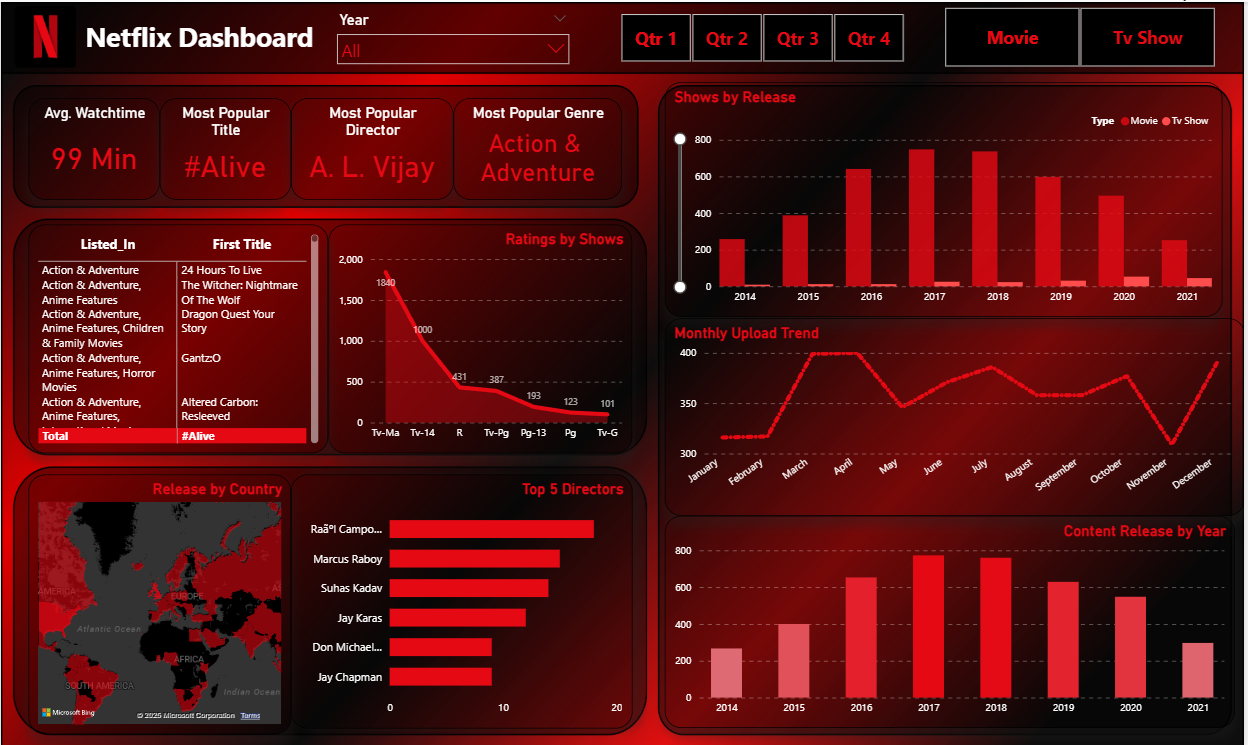

Layout of this report page (visuals, bound fields, positions):
{"tool":"powerbi","page":{"name":"Page 1","canvas":[1500,900],"ordinal":0},"visuals":[{"type":"clusteredColumnChart","title":"Shows by Release","fields":{"Category":["RQR.Release_Year"],"Y":["RQR.Show_Id"],"Series":["RQR.Type"]},"box":[800.8,96.5,672.6,283.5],"z":0},{"type":"filledMap","title":"Release by Country","fields":{"Category":["RQR.Country"]},"box":[33.2,570,316.7,313.7],"z":1000},{"type":"clusteredBarChart","title":"Top 5 Directors","fields":{"Category":["RQR.Director"],"Y":["RQR.Show_Id"]},"box":[349.9,570,411.7,306.1],"z":2000},{"type":"lineChart","title":"Monthly Upload Trend","fields":{"Category":["RQR.Date_Added.Variation.Date Hierarchy.Month","RQR.Date_Added.Variation.Date Hierarchy.Day"],"Y":["RQR.Show_Id"]},"box":[800.8,381.5,699.7,238.3],"z":3000},{"type":"columnChart","title":"Content Release by Year","fields":{"Category":["RQR.Release_Year"],"Y":["RQR.Show_Id"]},"box":[800.8,619.8,687.7,256.4],"z":4000},{"type":"areaChart","title":"Ratings by Shows","fields":{"Category":["RQR.Rating"],"Y":["RQR.Show_Id"]},"box":[395.1,268.4,366.5,276],"z":5000},{"type":"card","title":"Avg. Watchtime","fields":{"Values":["RQR.Duration"]},"box":[33.2,116.1,158.3,122.2],"z":6000},{"type":"pivotTable","fields":{"Values":["RQR.Title"],"Rows":["RQR.Listed_In"]},"box":[33.2,268.4,361.9,276],"z":7000},{"type":"card","title":"Most Popular Title","fields":{"Values":["RQR.Title"]},"box":[191.5,116.1,158.3,122.2],"z":8000},{"type":"card","title":"Most Popular Director","fields":{"Values":["RQR.Director"]},"box":[349.9,116.1,196,122.2],"z":9000},{"type":"card","title":"Most Popular Genre","fields":{"Values":["RQR.Listed_In"]},"box":[545.9,116.1,203.6,122.2],"z":10000},{"type":"image","box":[10.6,0,86,84.5],"z":11000},{"type":"textbox","box":[96.5,15.1,298.6,57.3],"z":12000},{"type":"slicer","fields":{"Values":["RQR.Date_Added.Variation.Date Hierarchy.Quarter"]},"box":[722.4,7.5,390.6,70.9],"z":13000},{"type":"slicer","fields":{"Values":["RQR.Type"]},"box":[1112.9,0,375.5,84.5],"z":14000},{"type":"slicer","fields":{"Values":["RQR.Release_Year"]},"box":[395.1,6,300.1,70.9],"z":14001}]}

Visuals, with their boxes in screenshot pixels (x1, y1, x2, y2), scaled from the page's 1500x900 canvas onto the 1248x745 screenshot:
"Shows by Release" clusteredColumnChart: {"left": 666, "top": 80, "right": 1226, "bottom": 315}
"Release by Country" filledMap: {"left": 28, "top": 472, "right": 291, "bottom": 732}
"Top 5 Directors" clusteredBarChart: {"left": 291, "top": 472, "right": 634, "bottom": 725}
"Monthly Upload Trend" lineChart: {"left": 666, "top": 316, "right": 1247, "bottom": 513}
"Content Release by Year" columnChart: {"left": 666, "top": 513, "right": 1238, "bottom": 725}
"Ratings by Shows" areaChart: {"left": 329, "top": 222, "right": 634, "bottom": 451}
"Avg. Watchtime" card: {"left": 28, "top": 96, "right": 159, "bottom": 197}
pivotTable - RQR.Title x RQR.Listed_In: {"left": 28, "top": 222, "right": 329, "bottom": 451}
"Most Popular Title" card: {"left": 159, "top": 96, "right": 291, "bottom": 197}
"Most Popular Director" card: {"left": 291, "top": 96, "right": 454, "bottom": 197}
"Most Popular Genre" card: {"left": 454, "top": 96, "right": 624, "bottom": 197}
image: {"left": 9, "top": 0, "right": 80, "bottom": 70}
textbox: {"left": 80, "top": 12, "right": 329, "bottom": 60}
slicer - RQR.Date_Added.Variation.Date Hierarchy.Quarter: {"left": 601, "top": 6, "right": 926, "bottom": 65}
slicer - RQR.Type: {"left": 926, "top": 0, "right": 1238, "bottom": 70}
slicer - RQR.Release_Year: {"left": 329, "top": 5, "right": 578, "bottom": 64}
